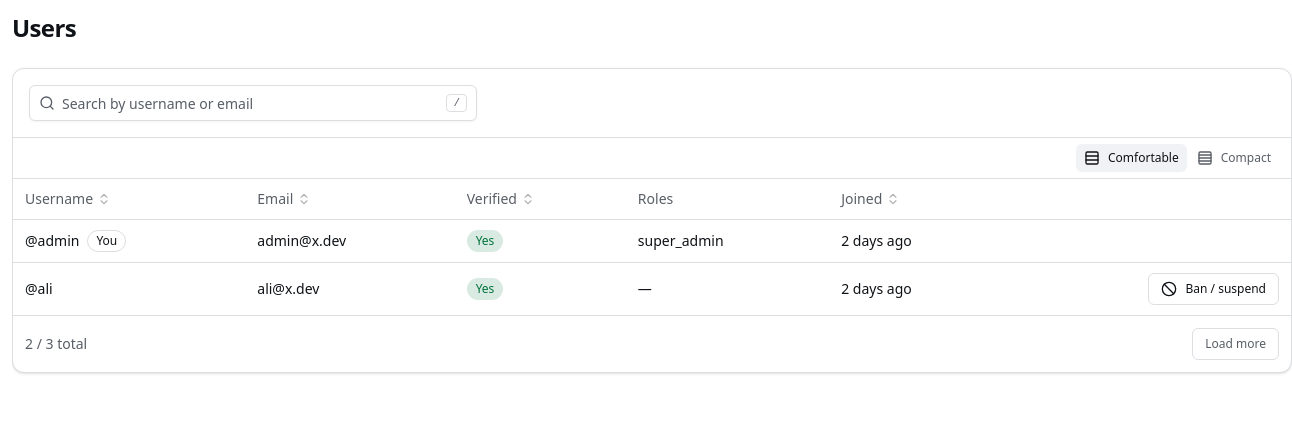
Test: UsersPage › lists users, hides sanction for self, loads more by cursor
The image size is (1292, 432).
Expected: the text "@ali" is shown, [25,278,53,298]
Expected: the button with aria-label "Ban / suspend: @ali" is shown, [1148,272,1279,304]
Click the button "Load more" at (1236, 344), box [1192,328,1279,360]
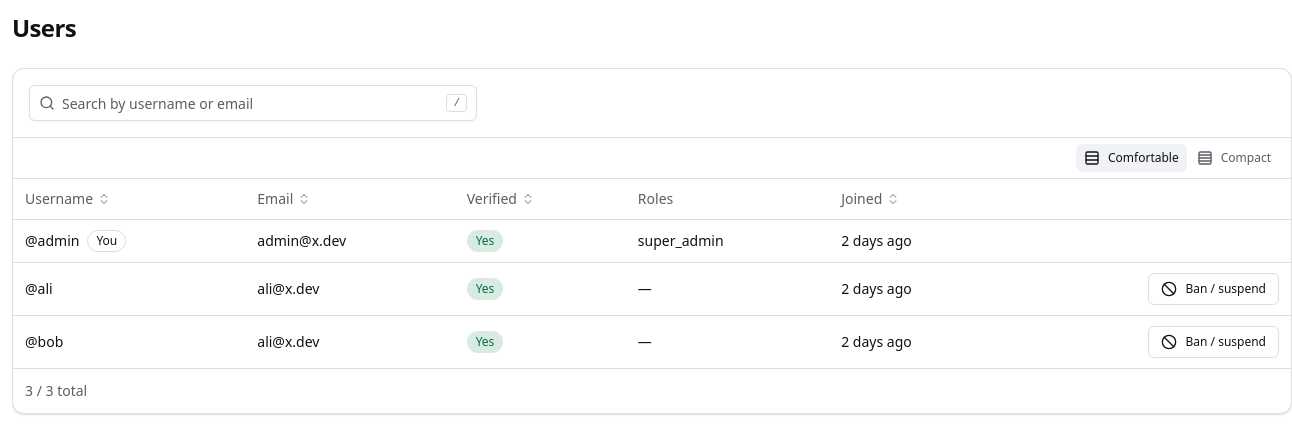
Expected: the text "@bob" is shown, [25,332,63,352]
